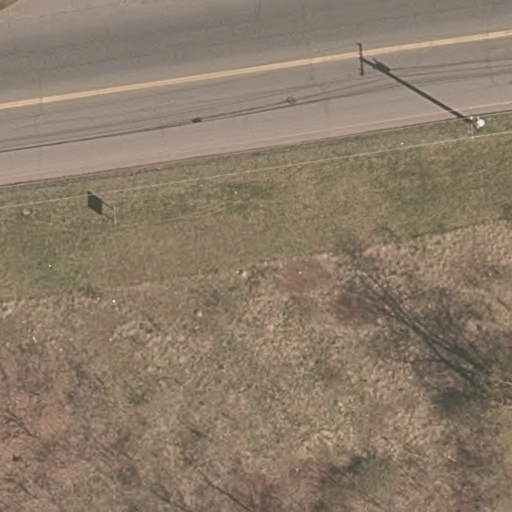DT: (463, 101, 496, 144)
